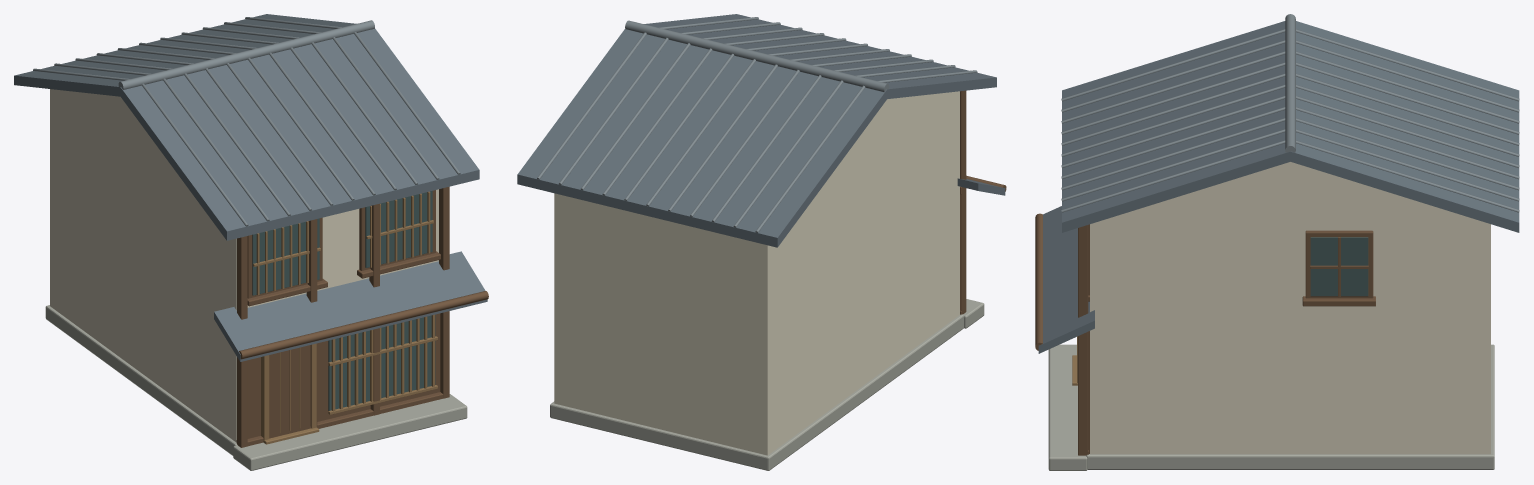
Rendered from small_japanese_machiya.glb.
3 views of the same model, side by side, from view 1: azimuth 30°, elevation 25°; view 2: azimuth 150°, elevation 25°; view 3: azimuth 270°, elevation 25° (orthographic). The views are drawn at different scales.
Visible parts, largest first — view 1: Machiya tiled roof with deep eaves, Machiya closed narrow two-story body, Machiya lower street awning, Machiya long front threshold, Machiya lower lattice window dark backing, Machiya sliding wooden entry closed door slab, Machiya low stone foundation, Machiya ground floor timber facade, Machiya upper lattice window dark glazing, Machiya upper lattice window dark glazing.001, Machiya tiled roof ridge cap, Machiya awning front fascia (+22 smaller); view 2: Machiya closed narrow two-story body, Machiya tiled roof with deep eaves, Machiya low stone foundation, Machiya tiled roof ridge cap, Machiya structural facade post, Machiya pitched roof tile roll, Machiya pitched roof tile roll.001, Machiya pitched roof tile roll.002, Machiya pitched roof tile roll.003, Machiya pitched roof tile roll.004, Machiya pitched roof tile roll.006, Machiya pitched roof tile roll.010 (+4 smaller); view 3: Machiya closed narrow two-story body, Machiya tiled roof with deep eaves, Machiya low stone foundation, Machiya lower street awning, Machiya long front threshold, Machiya small upper side window glazing, Machiya structural facade post.003, Machiya pitched roof tile roll.010, Machiya pitched roof tile roll.001, Machiya pitched roof tile roll.008, Machiya pitched roof tile roll, Machiya pitched roof tile roll.003 (+10 smaller).
Boxes of the visible parts, box(x1,y1,x2,y2) form: Machiya tiled roof with deep eaves: box(14, 14, 479, 240); Machiya closed narrow two-story body: box(50, 89, 438, 442); Machiya lower street awning: box(214, 251, 487, 361); Machiya long front threshold: box(233, 394, 467, 470); Machiya lower lattice window dark backing: box(328, 315, 435, 410); Machiya sliding wooden entry closed door slab: box(269, 345, 310, 438); Machiya low stone foundation: box(45, 305, 237, 455); Machiya ground floor timber facade: box(247, 313, 440, 438); Machiya upper lattice window dark glazing: box(252, 218, 319, 295); Machiya upper lattice window dark glazing.001: box(365, 191, 432, 267); Machiya tiled roof ridge cap: box(118, 20, 374, 89); Machiya awning front fascia: box(239, 291, 488, 359); Machiya closed narrow two-story body: box(554, 91, 959, 455); Machiya tiled roof with deep eaves: box(517, 14, 996, 247); Machiya low stone foundation: box(550, 314, 964, 470); Machiya tiled roof ridge cap: box(625, 20, 889, 92); Machiya structural facade post: box(960, 90, 966, 312); Machiya pitched roof tile roll: box(755, 70, 977, 232); Machiya pitched roof tile roll.001: box(733, 65, 955, 227); Machiya pitched roof tile roll.002: box(711, 59, 933, 222); Machiya pitched roof tile roll.003: box(690, 54, 911, 216); Machiya pitched roof tile roll.004: box(668, 49, 889, 211); Machiya pitched roof tile roll.006: box(624, 38, 846, 200); Machiya pitched roof tile roll.010: box(537, 17, 758, 179); Machiya closed narrow two-story body: box(1090, 162, 1490, 454); Machiya tiled roof with deep eaves: box(1062, 21, 1519, 232); Machiya low stone foundation: box(1086, 344, 1494, 469); Machiya lower street awning: box(1038, 206, 1094, 353); Machiya long front threshold: box(1048, 344, 1087, 470); Machiya small upper side window glazing: box(1310, 237, 1368, 296); Machiya structural facade post.003: box(1078, 225, 1088, 455); Machiya pitched roof tile roll.010: box(1061, 140, 1519, 212); Machiya pitched roof tile roll.001: box(1061, 40, 1519, 112); Machiya pitched roof tile roll.008: box(1061, 118, 1519, 190); Machiya pitched roof tile roll: box(1061, 29, 1519, 101); Machiya pitched roof tile roll.003: box(1061, 62, 1519, 134).
Bounding box in the file's own units: 5 × 5.89 × 7.73.
